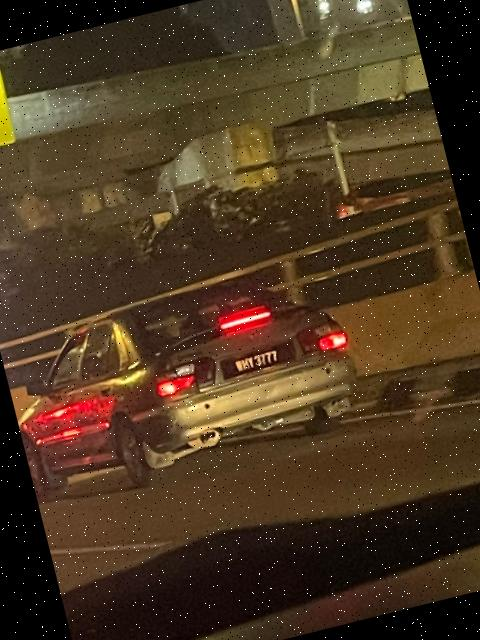License_Plate: (226, 340, 293, 380)
car: (1, 252, 372, 501)
